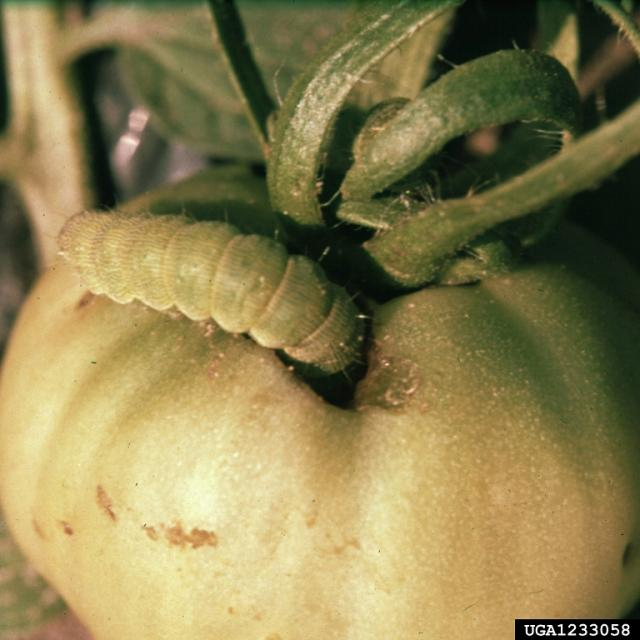Corn-earworm: (61, 197, 364, 388)
